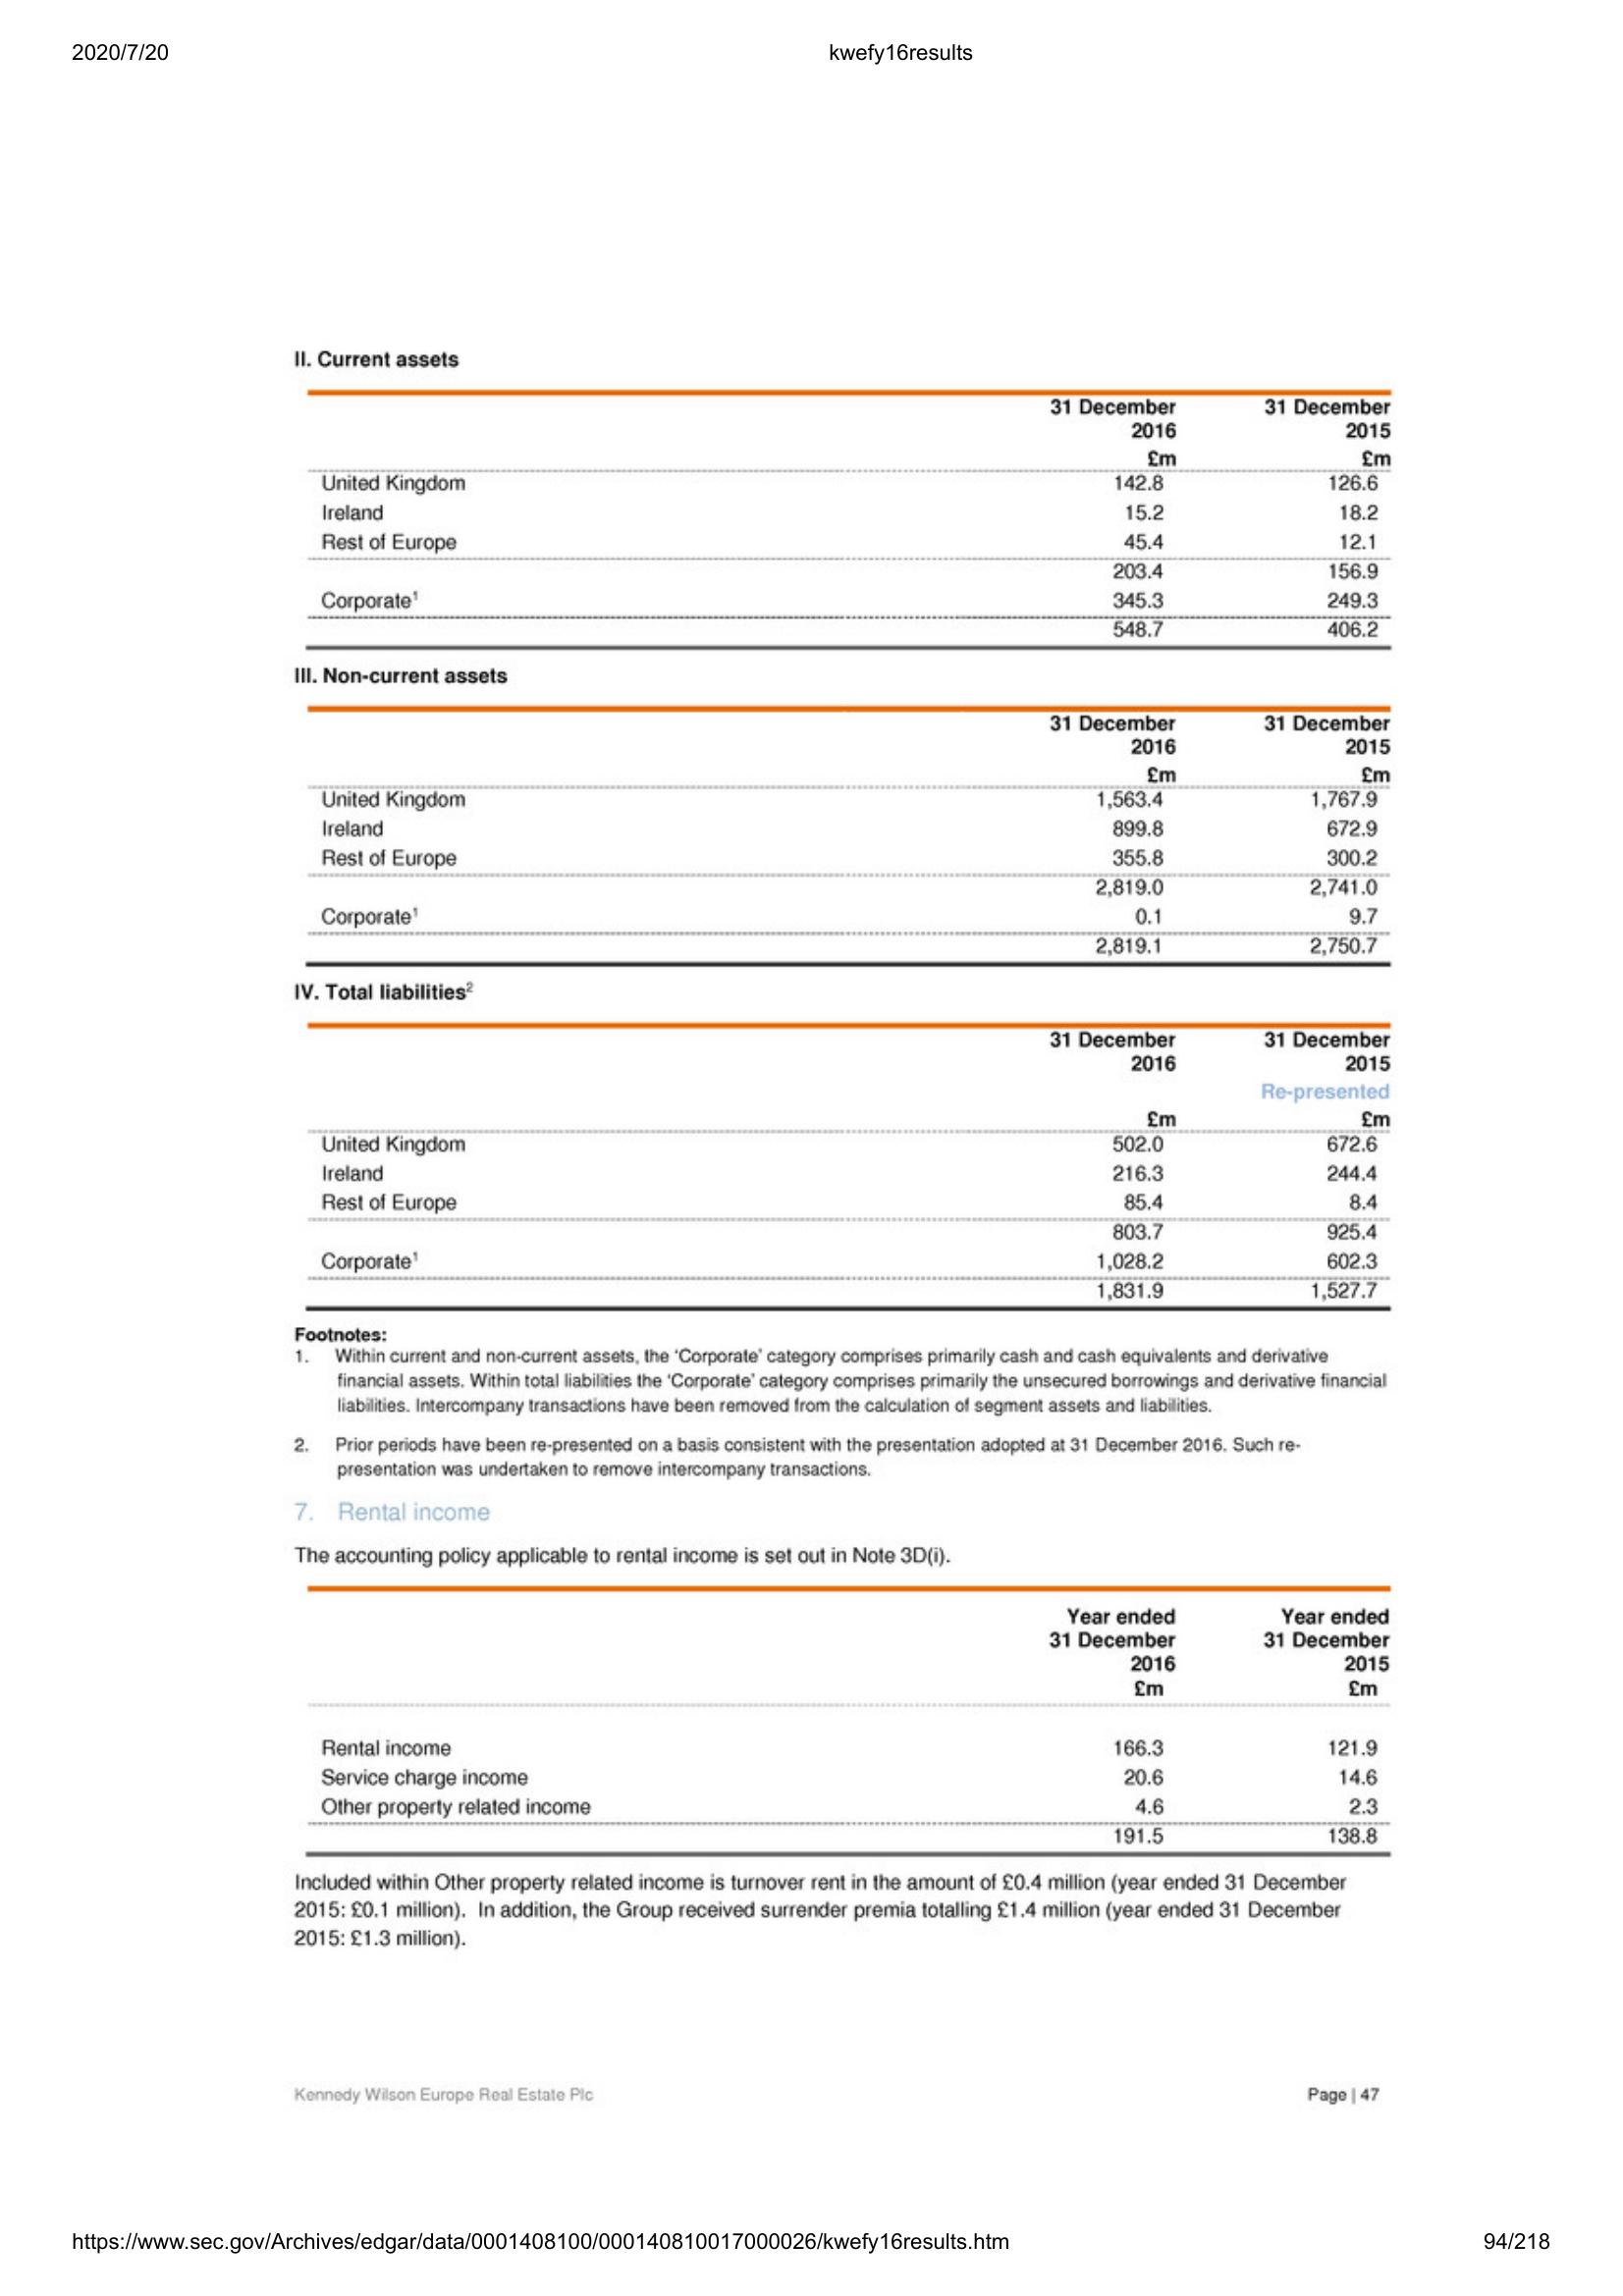table: (292, 1008, 1398, 1322), (293, 1575, 1400, 1868), (299, 697, 1410, 976), (307, 386, 1410, 657)
